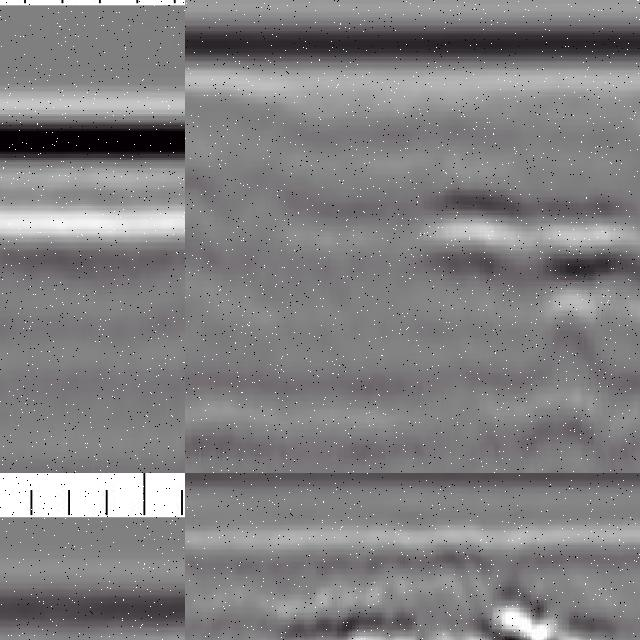crack: (1, 182, 32, 474)
loose: (415, 166, 640, 344), (299, 591, 588, 640)
